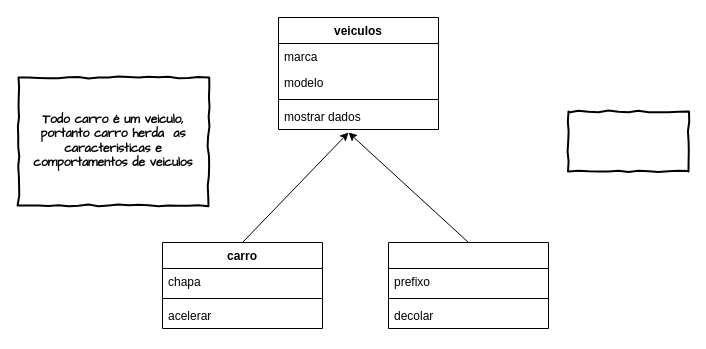
The diagram is 706 pixels wide and 349 high, and some of its shapes have lost their labels. Each missing label, with the box of its shape:
assim como tambem avião é um veiculo, herdando assim as suas propriedades: (567, 110, 689, 172)
avião: (388, 242, 548, 328)
